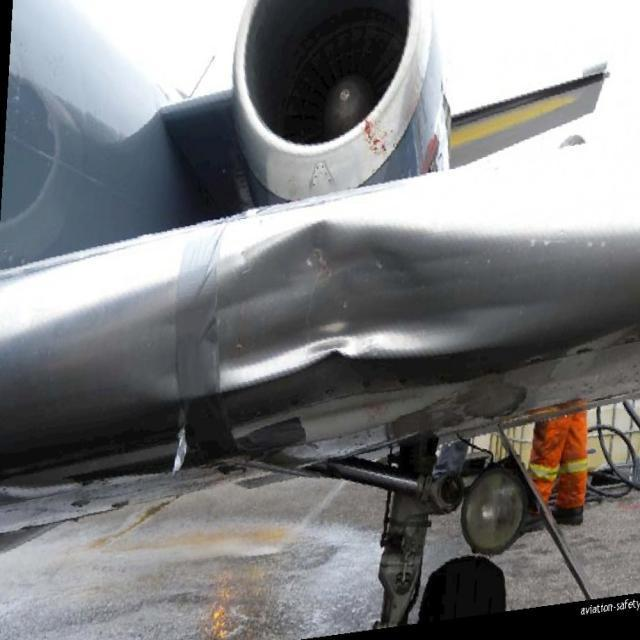dent: (152, 240, 560, 358)
